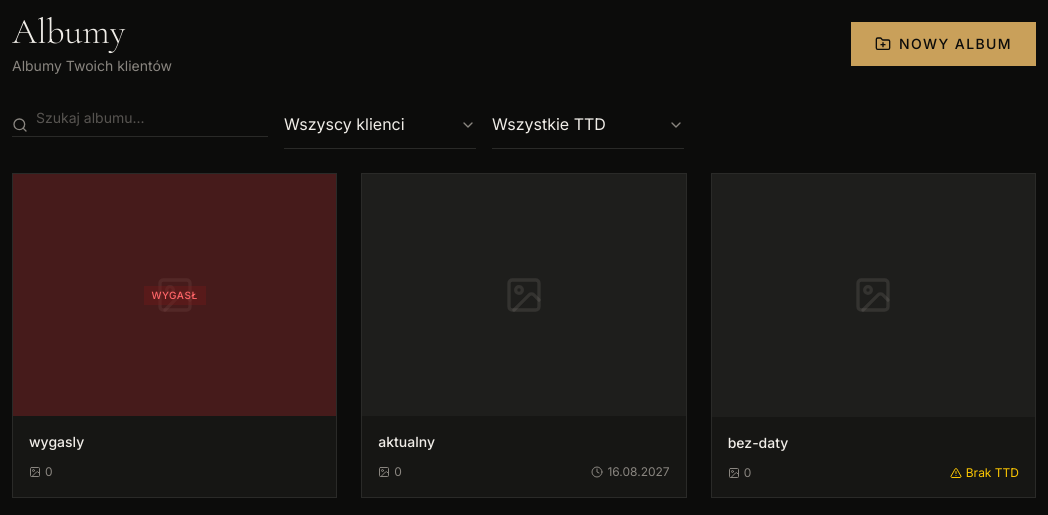
Test: PhotographerAlbums › The expired filter shows only albums whose date has passed, not every album that has a date
This screenshot has width=1048, height=515.
Expected: the heading "wygasly" is shown, [29,434,84,450]
// the second select is the TTD filter (the first one filters by client)
Select "Wygasłe" in the 2nd dropdown at (588, 124), box [492,100,684,149]
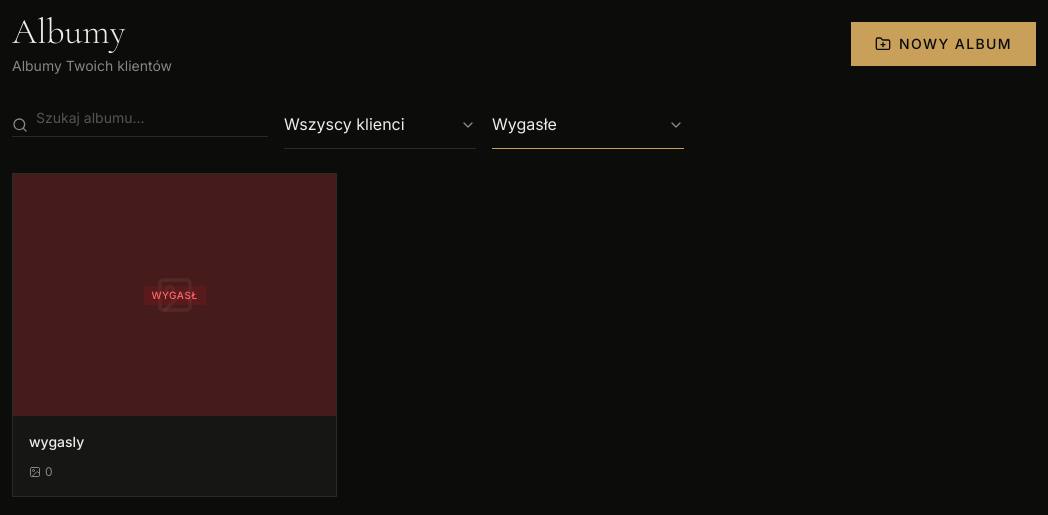
Expected: the heading "wygasly" is shown, [29,434,84,450]
Expected: the link "aktualny" is gone
Expected: the link "bez-daty" is gone
